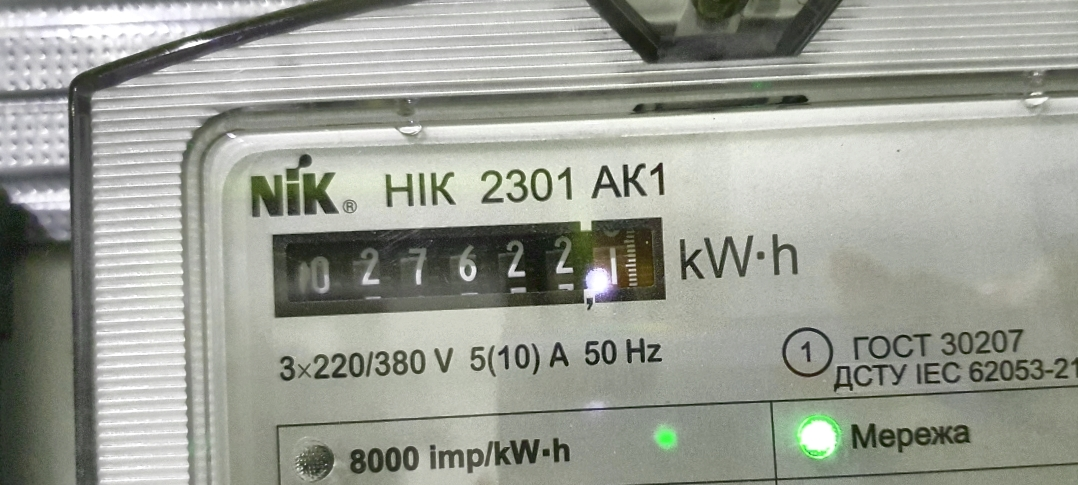0: (307, 252, 332, 295)
1: (604, 243, 621, 286)
2: (501, 237, 528, 279), (357, 244, 381, 288), (551, 233, 575, 275)
6: (455, 241, 478, 283)
7: (405, 244, 430, 288)
screen: (258, 206, 679, 324)
